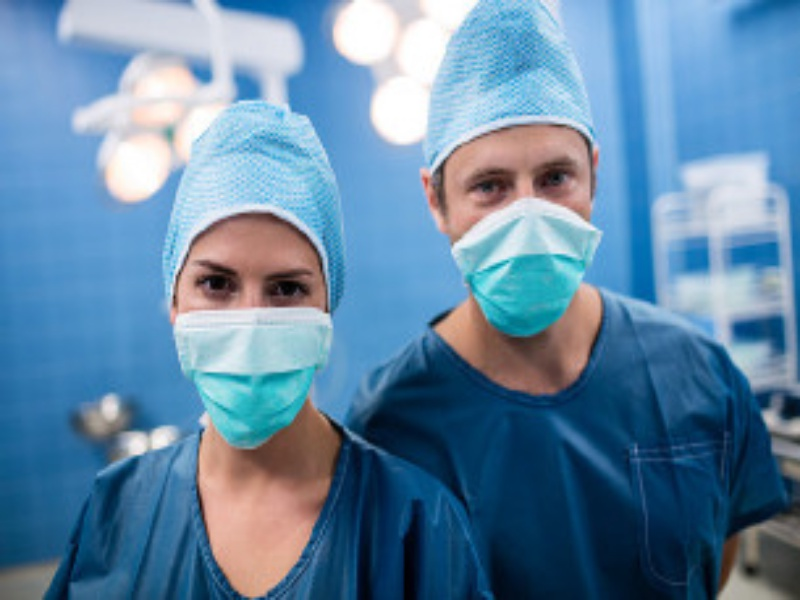mask: (148, 125, 351, 451), (406, 65, 609, 335)
